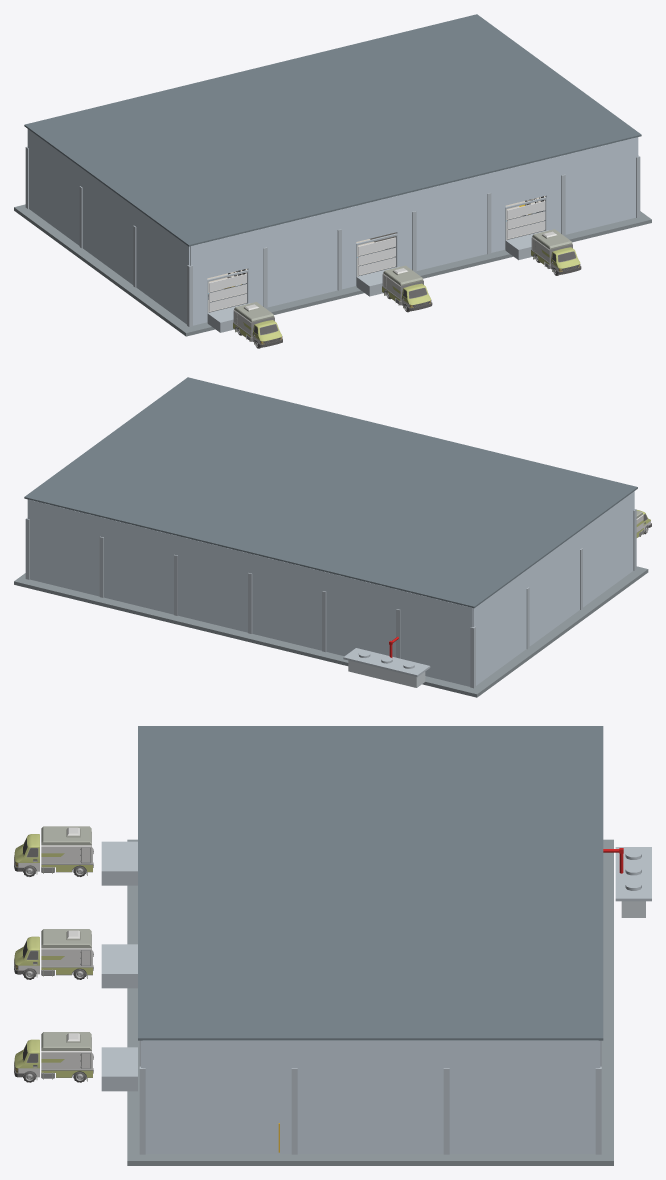
The model's file is warehouse_cold_storage.glb.
3 renders of one model, top to bottom at view 1: azimuth 30°, elevation 25°; view 2: azimuth 150°, elevation 25°; view 3: azimuth 270°, elevation 25°, orthographic. The views are drawn at different scales.
Parts seen in each view (by area): view 1: ROOF_DECK, WALL_WEST, WALL_SOUTH_HEAD, WALL_SOUTH_3, WALL_SOUTH_2, FOUNDATION_SLAB, Truck (×3), WALL_SOUTH_4, WALL_SOUTH_1, DOCK_DOOR_03, DOCK_DOOR_02, DOCK_DOOR_01 (+3 smaller); view 2: ROOF_DECK, WALL_NORTH, WALL_WEST, FOUNDATION_SLAB, CONDENSER_FRAME, CONDENSER_COIL; view 3: ROOF_DECK, WALL_EAST, FOUNDATION_SLAB, Truck (×3), LOADING_DOCK_01, LOADING_DOCK_02, LOADING_DOCK_03, CONDENSER_FRAME.
Part boxes in pixels (x1,y1,x2,y2): ROOF_DECK: (24, 14, 641, 246); WALL_WEST: (27, 129, 189, 324); WALL_SOUTH_HEAD: (190, 137, 637, 281); WALL_SOUTH_3: (396, 169, 505, 270); WALL_SOUTH_2: (247, 206, 356, 307); FOUNDATION_SLAB: (14, 204, 651, 336); Truck (×3): (233, 229, 581, 347); WALL_SOUTH_4: (545, 138, 637, 234); WALL_SOUTH_1: (190, 242, 207, 325); DOCK_DOOR_03: (507, 201, 545, 239); DOCK_DOOR_02: (358, 237, 396, 276); DOCK_DOOR_01: (209, 274, 246, 312); ROOF_DECK: (24, 377, 637, 608); WALL_NORTH: (28, 499, 473, 686); WALL_WEST: (473, 491, 634, 685); FOUNDATION_SLAB: (14, 566, 648, 697); CONDENSER_FRAME: (343, 648, 430, 677); CONDENSER_COIL: (348, 660, 425, 687); ROOF_DECK: (138, 726, 603, 1040); WALL_EAST: (142, 1040, 598, 1153); FOUNDATION_SLAB: (127, 839, 613, 1165); Truck (×3): (14, 826, 93, 1081); LOADING_DOCK_01: (101, 841, 137, 885); LOADING_DOCK_02: (101, 944, 137, 988); LOADING_DOCK_03: (101, 1047, 137, 1091); CONDENSER_FRAME: (615, 847, 651, 901).
Bounding box in the file's own units: 50 × 8.93 × 41.96.
